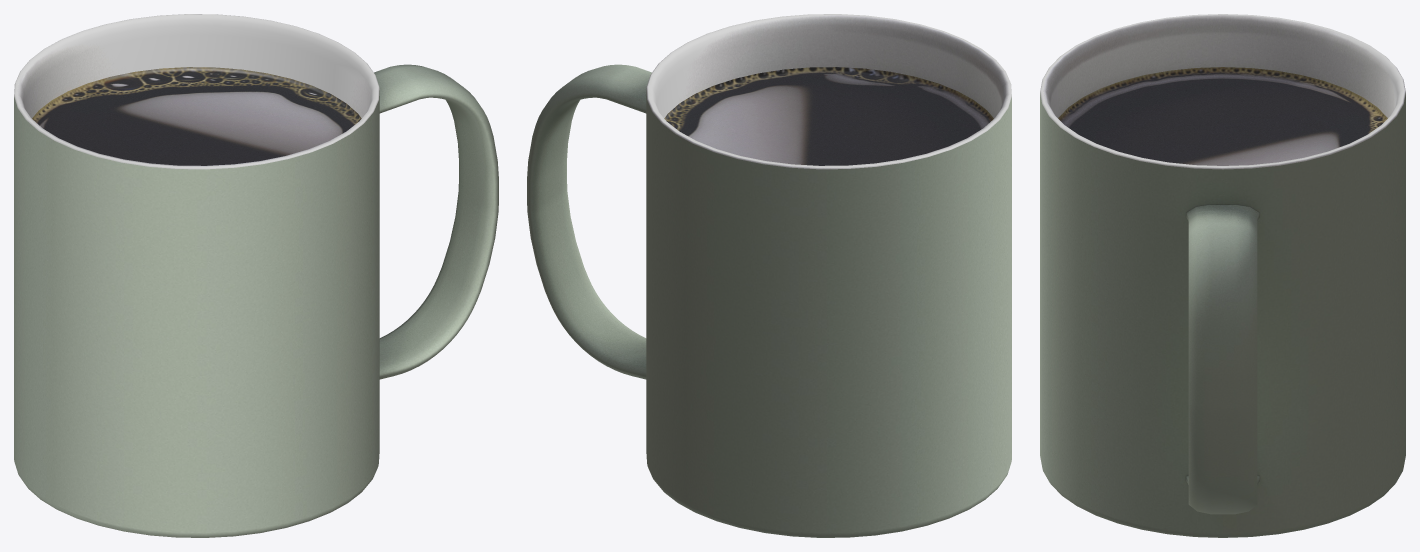
File: coffee_cup.glb
3 views of the same model, side by side, from view 1: azimuth 30°, elevation 25°; view 2: azimuth 150°, elevation 25°; view 3: azimuth 270°, elevation 25° (orthographic).
Visible parts, largest first — view 1: coffee1; view 2: coffee1; view 3: coffee1.
Boxes of the visible parts, <box> form: coffee1: <box>14,14,498,537</box>; coffee1: <box>527,14,1011,537</box>; coffee1: <box>1040,14,1405,537</box>.
Bounding box in the file's own units: 1.14 × 0.8977 × 0.8.
1 material, 1 textured.
